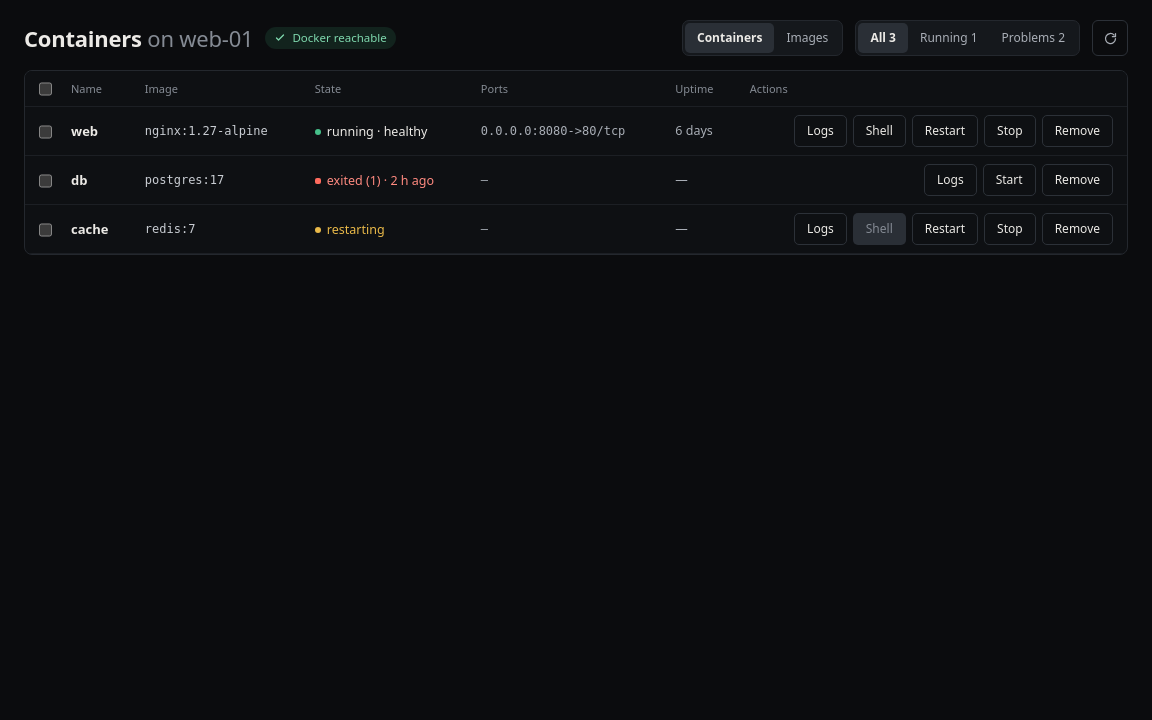
Test: DockerWorkspace › streams logs with tail and follow, filters lines and reconnects on option change
This screenshot has width=1152, height=720.
Expected: the text "Docker reachable" is shown, x1=266 y1=27 x2=396 y2=49
Click the button with aria-label "Logs of web".
click(820, 131)  # box x1=794 y1=115 x2=847 y2=147
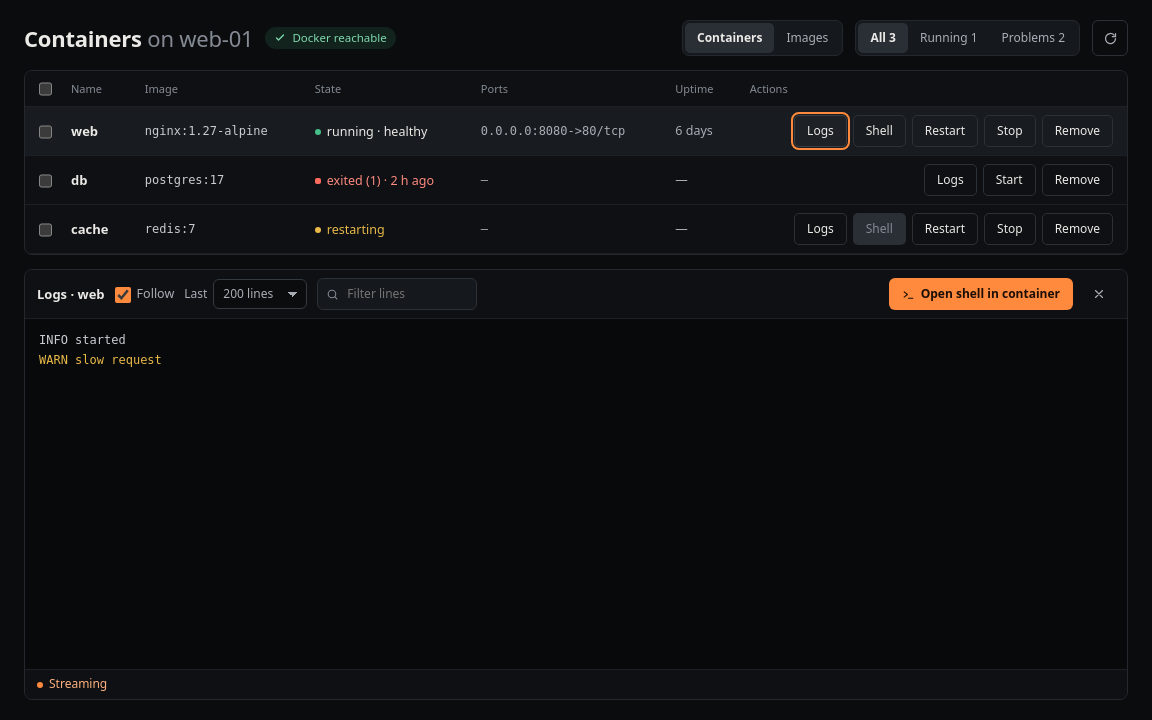
Now the element named "Log output" shows "INFO started", box x1=39 y1=333 x2=126 y2=347
Type "warn" into the search field named "Filter log lines".
click(407, 294); type("warn")  # box x1=345 y1=285 x2=468 y2=303
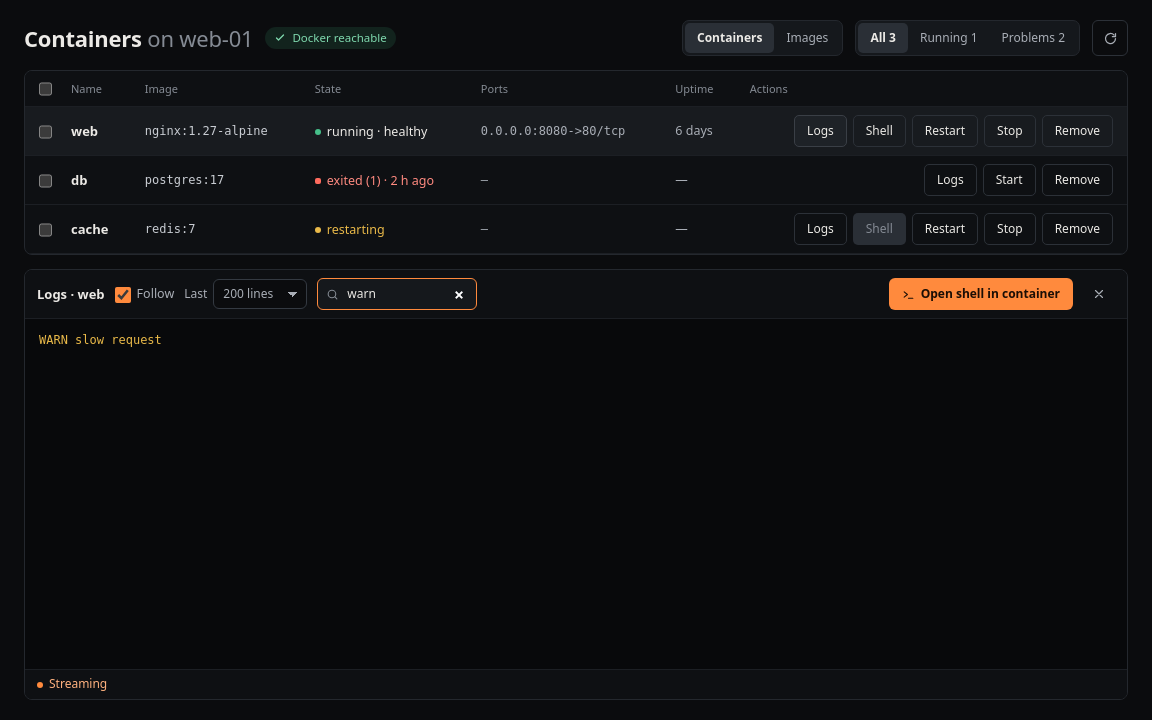
Now the element named "Log output" no longer shows "INFO started", box x1=25 y1=319 x2=1127 y2=669
Now the element named "Log output" reads "WARN slow request", box x1=39 y1=333 x2=162 y2=347
Click the checkbox labelled "Follow".
click(123, 294)  # box x1=115 y1=286 x2=131 y2=302
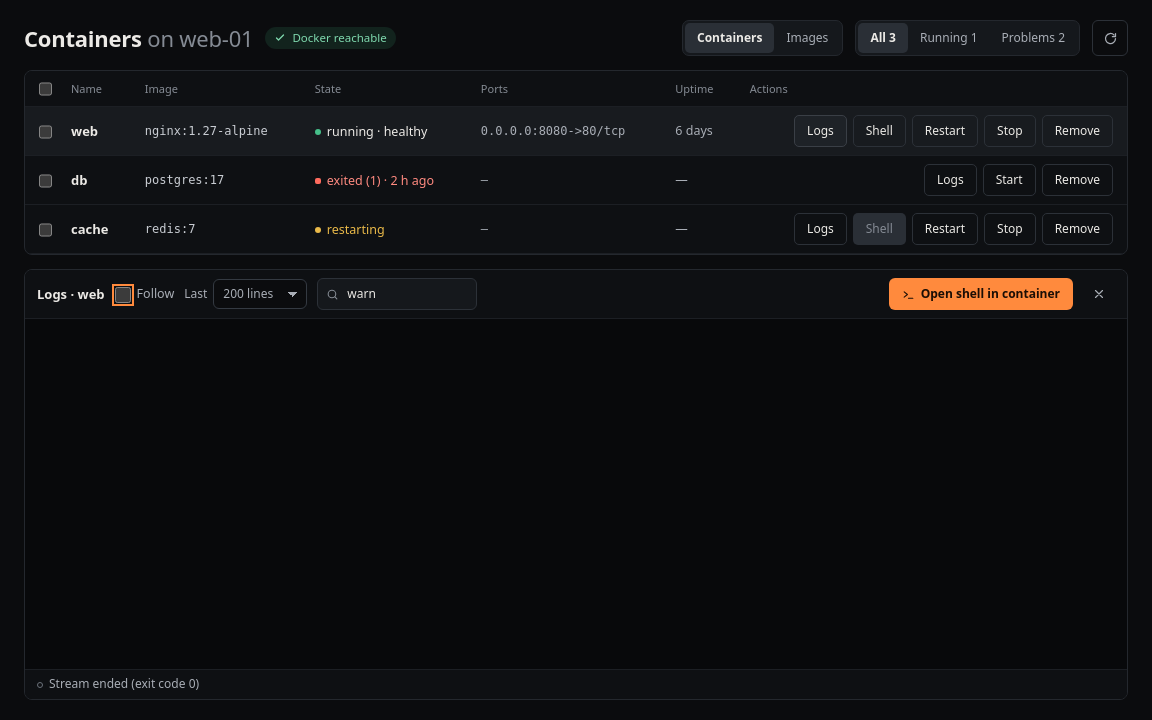
Now the text "Stream ended (exit code 0)" is shown, box x1=37 y1=676 x2=199 y2=693
